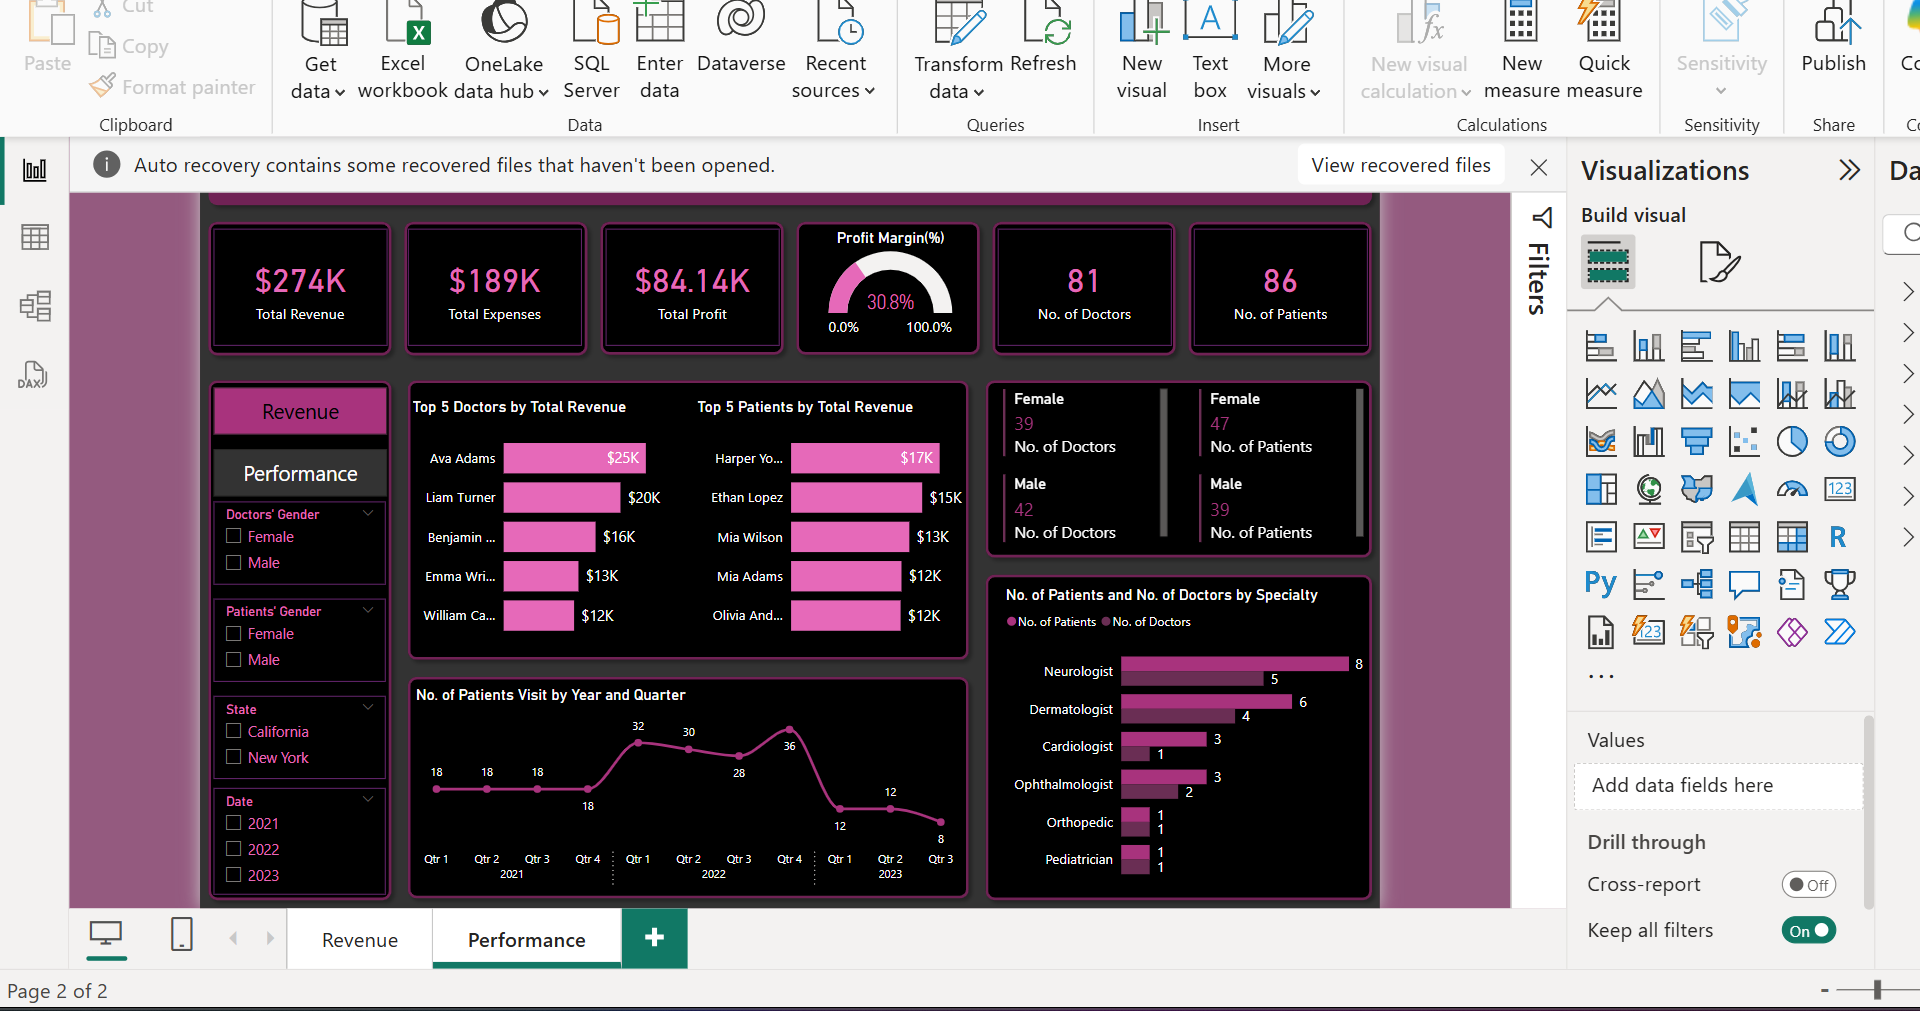

This screenshot's page, from the dashboard's own definition file:
{"tool":"powerbi","page":{"name":"Performance","canvas":[1300,850],"ordinal":1},"visuals":[{"type":"shape","box":[0,12.6,1300.1,71.2],"z":0},{"type":"shape","box":[0,84.3,219.8,165.4],"z":1000},{"type":"shape","box":[432.1,84.8,219.8,164.3],"z":2000},{"type":"shape","box":[216.1,84.3,219.8,165.4],"z":3000},{"type":"shape","box":[648.2,84.8,219.8,164.3],"z":4000},{"type":"shape","box":[864.2,84.3,219.8,165.4],"z":5000},{"type":"shape","box":[0,259.6,219.8,590.4],"z":6000},{"type":"shape","box":[220,260,636,326],"z":7000},{"type":"shape","box":[220,586,636,262],"z":8000},{"type":"shape","box":[856.3,259.6,443.8,213.5],"z":9000},{"type":"shape","box":[856.3,473.2,443.8,376.8],"z":10000},{"type":"shape","box":[1080.2,84.3,219.8,165.4],"z":11000},{"type":"card","fields":{"Values":["Calculated Measure.Total Revenue"]},"box":[14.4,102.2,191.1,128.9],"z":12000},{"type":"card","fields":{"Values":["Calculated Measure.Total Expenses"]},"box":[230,102.2,191.1,128.9],"z":13000},{"type":"card","fields":{"Values":["Calculated Measure.Total Profit"]},"box":[446.7,102.2,191.1,128.9],"z":14000},{"type":"gauge","fields":{"Y":["Calculated Measure.Profit Margin(%)"]},"box":[664.4,102.2,191.1,128.9],"z":15000},{"type":"card","fields":{"Values":["Doctors' Dim.DoctorID"]},"box":[878.9,102.2,191.1,128.9],"z":16000},{"type":"card","fields":{"Values":["Patients' Dim.PatientID"]},"box":[1094.4,102.2,191.1,128.9],"z":17000},{"type":"lineChart","fields":{"Y":["Hospital Transactions (Fact Table).PatientID"],"Category":["Calendar Dim.Date.Variation.Date Hierarchy.Year","Calendar Dim.Date.Variation.Date Hierarchy.Quarter","Calendar Dim.Date.Variation.Date Hierarchy.Month"]},"box":[232,604,610,230],"z":18000},{"type":"clusteredBarChart","title":"Top 5 Doctors by Total Revenue","fields":{"Y":["Calculated Measure.Total Revenue"],"Category":["Doctors' Dim.Doctor's Name"]},"box":[230,288,308,280],"z":19000},{"type":"slicer","fields":{"Values":["Doctors' Dim.Doctor_Gender"]},"box":[14.7,402,189.5,91.1],"z":20000},{"type":"slicer","fields":{"Values":["Patients' Dim.Patients_Gender"]},"box":[14.7,508.7,189.5,91.1],"z":21000},{"type":"slicer","fields":{"Values":["Location Dim.State"]},"box":[14.7,615.5,189.5,91.1],"z":22000},{"type":"slicer","fields":{"Values":["Calendar Dim.Date.Variation.Date Hierarchy.Year"]},"box":[14.7,717.1,189.5,117.2],"z":23000},{"type":"clusteredBarChart","title":"Top 5 Patients by Total Revenue","fields":{"Y":["Calculated Measure.Total Revenue"],"Category":["Patients' Dim.Patient's Name"]},"box":[542,288,318,280],"z":24000},{"type":"clusteredBarChart","title":"No. of Patients and No. of Doctors by Specialty","fields":{"Category":["Doctors' Dim.Specialty"],"Y":["Hospital Transactions (Fact Table).PatientID","Hospital Transactions (Fact Table).DoctorID"]},"box":[882.5,493,404.1,341.3],"z":25000},{"type":"multiRowCard","fields":{"Values":["Doctors' Dim.Doctor_Gender","Doctors' Dim.Doctor_Gender"]},"box":[879.3,273.2,191.6,186.3],"z":26000},{"type":"multiRowCard","fields":{"Values":["Patients' Dim.Patients_Gender","Patients' Dim.Patients_Gender"]},"box":[1093.9,273.2,191.6,186.3],"z":27000},{"type":"textbox","box":[340.2,20.9,616.6,52.3],"z":28000},{"type":"pageNavigator","box":[15,276,191.5,120.2],"z":29000}]}

Visuals, with their boxes on the page's 1300x850 design canvas (x1, y1, x2, y2). These are canvas units, not pixel positions in the 1920x1011 screenshot, which may show the page scaled, cropped or inside an application window:
shape: 0:13:1300:84
shape: 0:84:220:250
shape: 432:85:652:249
shape: 216:84:436:250
shape: 648:85:868:249
shape: 864:84:1084:250
shape: 0:260:220:850
shape: 220:260:856:586
shape: 220:586:856:848
shape: 856:260:1300:473
shape: 856:473:1300:850
shape: 1080:84:1300:250
card - Calculated Measure.Total Revenue: 14:102:206:231
card - Calculated Measure.Total Expenses: 230:102:421:231
card - Calculated Measure.Total Profit: 447:102:638:231
gauge - Calculated Measure.Profit Margin(%): 664:102:856:231
card - Doctors' Dim.DoctorID: 879:102:1070:231
card - Patients' Dim.PatientID: 1094:102:1286:231
lineChart - Hospital Transactions (Fact Table).PatientID x Calendar Dim.Date.Variation.Date Hierarchy.Year: 232:604:842:834
"Top 5 Doctors by Total Revenue" clusteredBarChart: 230:288:538:568
slicer - Doctors' Dim.Doctor_Gender: 15:402:204:493
slicer - Patients' Dim.Patients_Gender: 15:509:204:600
slicer - Location Dim.State: 15:616:204:707
slicer - Calendar Dim.Date.Variation.Date Hierarchy.Year: 15:717:204:834
"Top 5 Patients by Total Revenue" clusteredBarChart: 542:288:860:568
"No. of Patients and No. of Doctors by Specialty" clusteredBarChart: 882:493:1287:834
multiRowCard - Doctors' Dim.Doctor_Gender x Doctors' Dim.Doctor_Gender: 879:273:1071:460
multiRowCard - Patients' Dim.Patients_Gender x Patients' Dim.Patients_Gender: 1094:273:1286:460
textbox: 340:21:957:73
pageNavigator: 15:276:206:396
